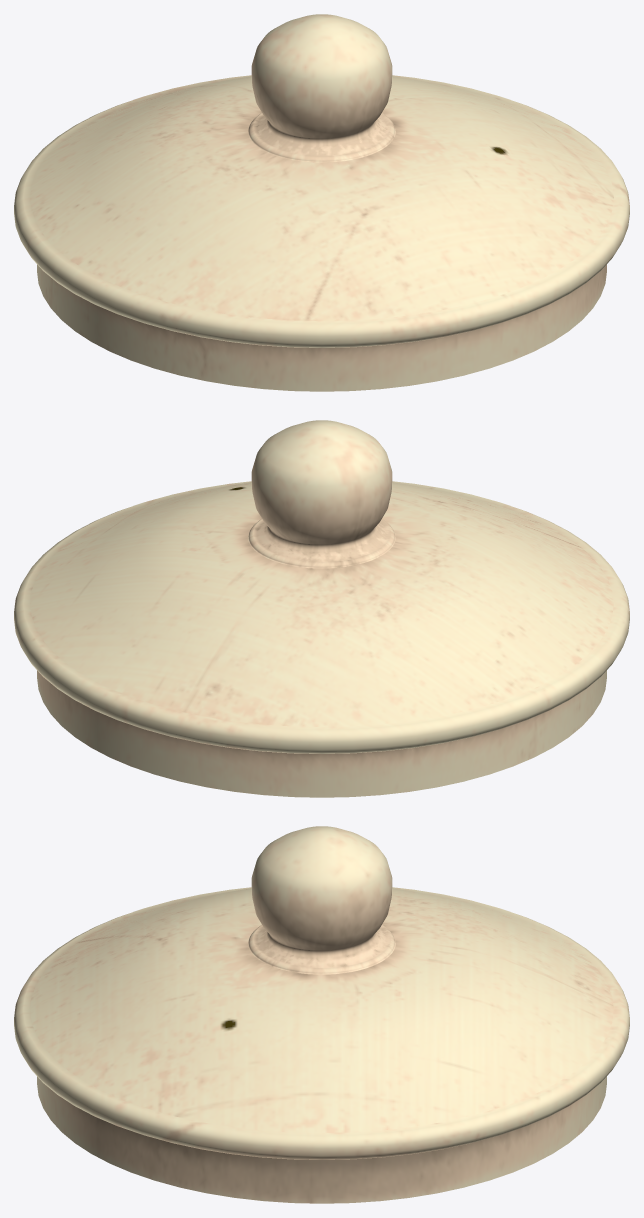
The model's file is SM_Teapot_Cover.fbx.
3 renders of one model, top to bottom at view 1: azimuth 30°, elevation 25°; view 2: azimuth 150°, elevation 25°; view 3: azimuth 270°, elevation 25°, orthographic.
Parts seen in each view (by area): view 1: SM_Teapot_Cover; view 2: SM_Teapot_Cover; view 3: SM_Teapot_Cover.
Boxes of the visible parts, x1=… form: SM_Teapot_Cover: x1=14, y1=14, x2=629, y2=391; SM_Teapot_Cover: x1=14, y1=420, x2=629, y2=797; SM_Teapot_Cover: x1=14, y1=826, x2=629, y2=1203.
Size of the model in its own units: 5.61 by 2.53 by 5.61.
1 material, 1 textured.
